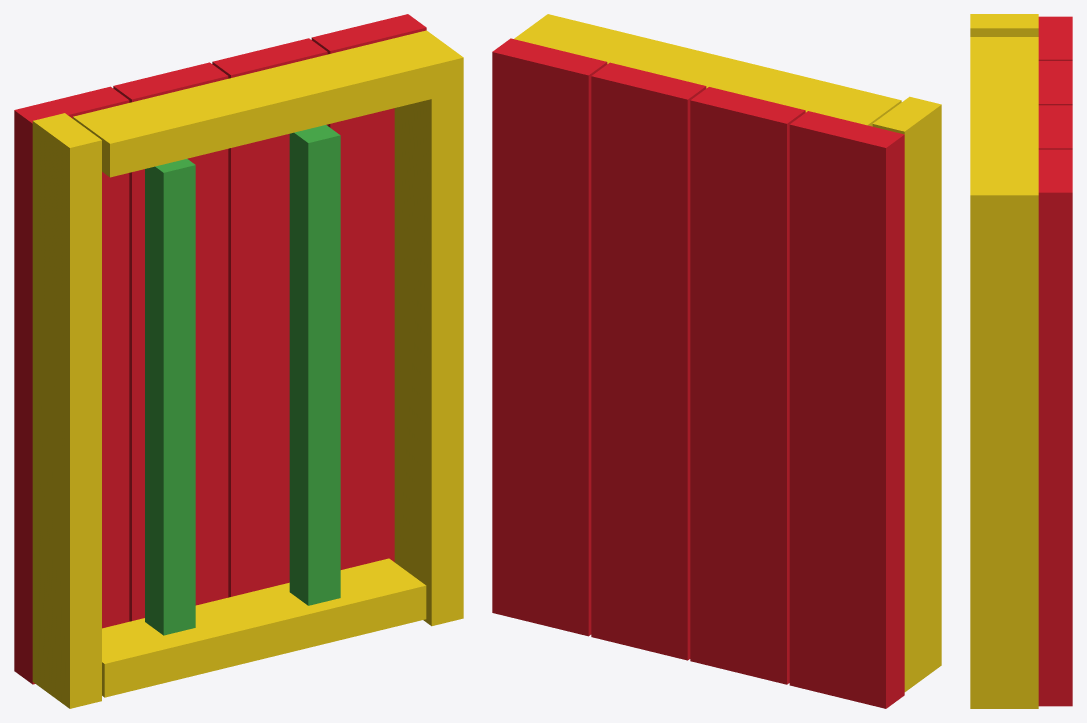
The model's file is tinker.obj.
3 views of the same model, side by side, from view 1: azimuth 30°, elevation 25°; view 2: azimuth 150°, elevation 25°; view 3: azimuth 270°, elevation 25° (orthographic). The views are drawn at different scales.
Parts seen in each view (by area): view 1: group_0_16768282, group_0_15277357, group_0_4634441; view 2: group_0_15277357, group_0_16768282; view 3: group_0_16768282, group_0_15277357.
Boxes of the visible parts, <box> form: group_0_16768282: <box>32,30,463,708</box>; group_0_15277357: <box>14,14,426,684</box>; group_0_4634441: <box>145,125,340,635</box>; group_0_15277357: <box>492,38,904,708</box>; group_0_16768282: <box>514,14,941,691</box>; group_0_16768282: <box>970,14,1038,708</box>; group_0_15277357: <box>1038,16,1072,706</box>.
Size of the model in its own units: 147 by 202 by 36.
